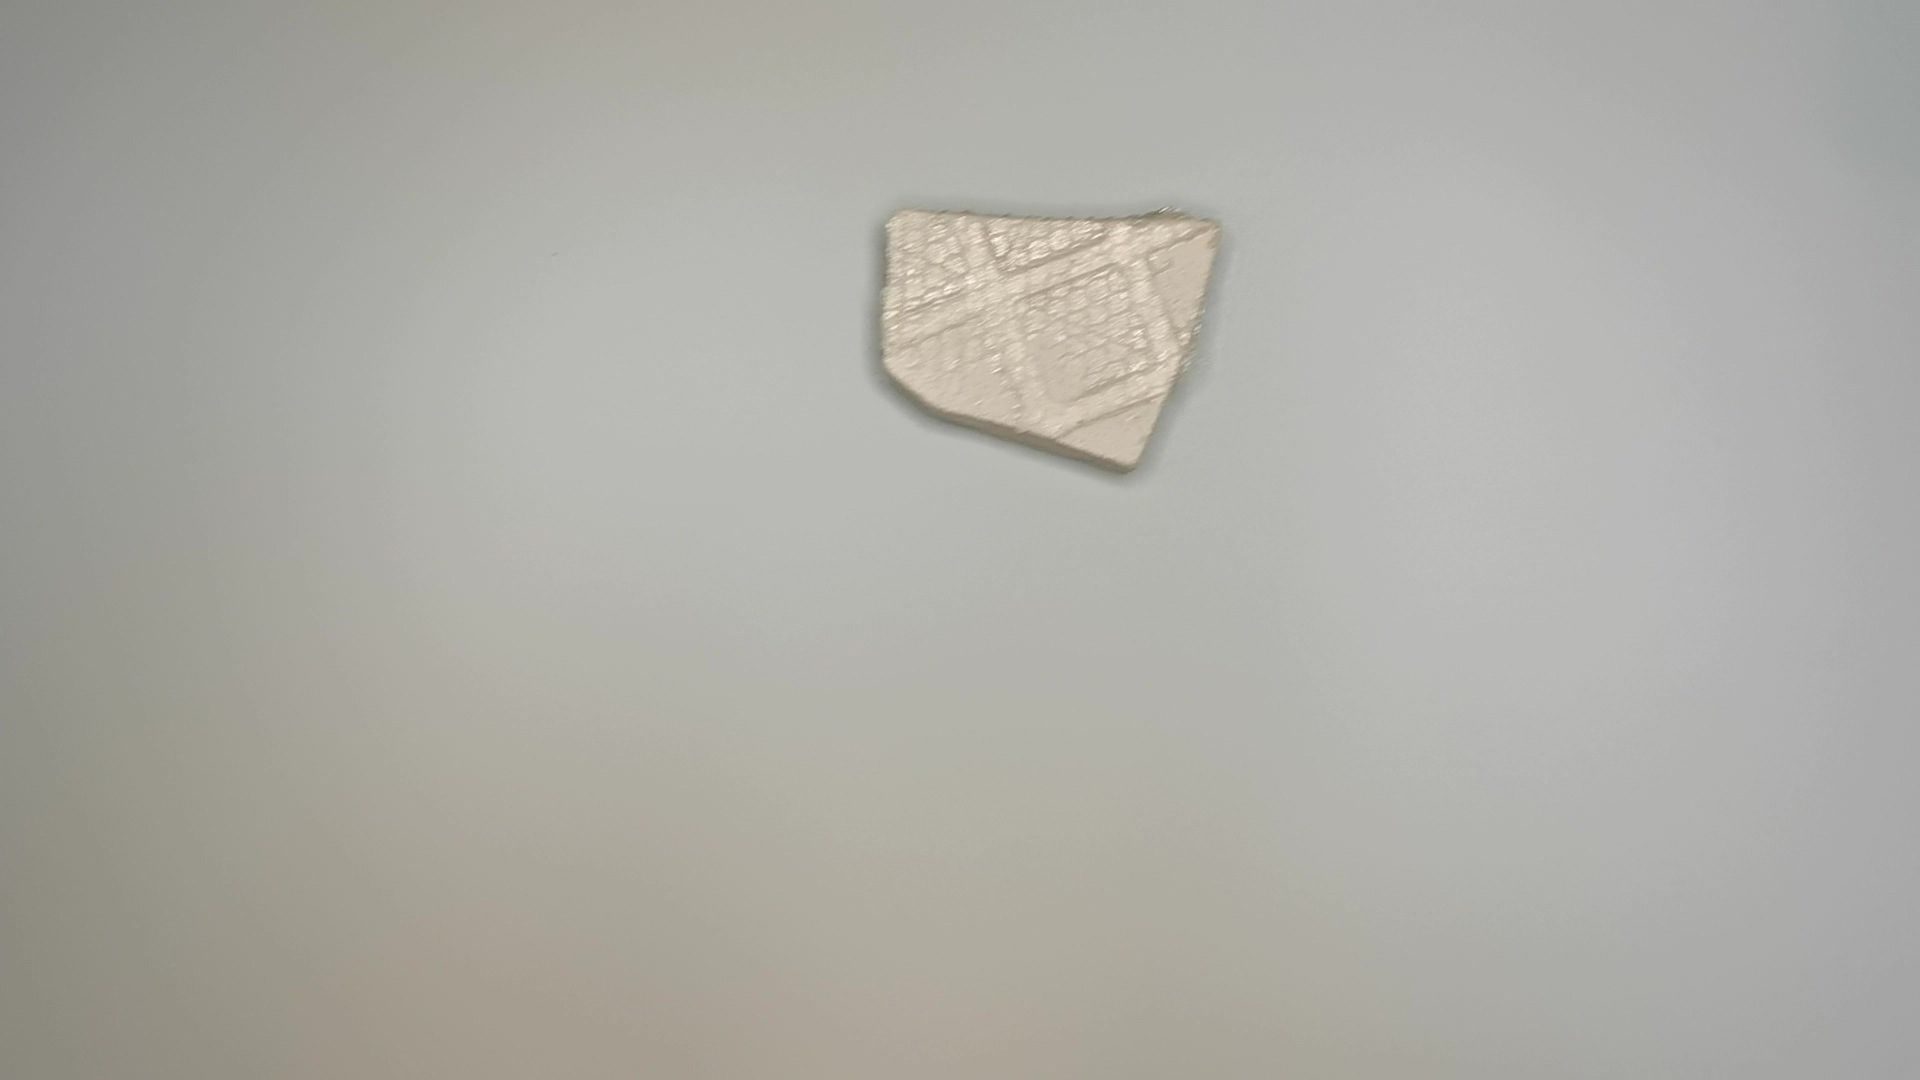ceramic: (866, 200, 1232, 479)
